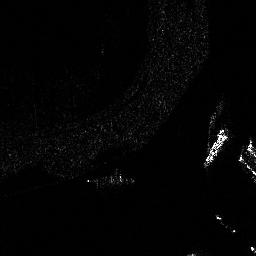ship: (205, 128, 229, 165)
